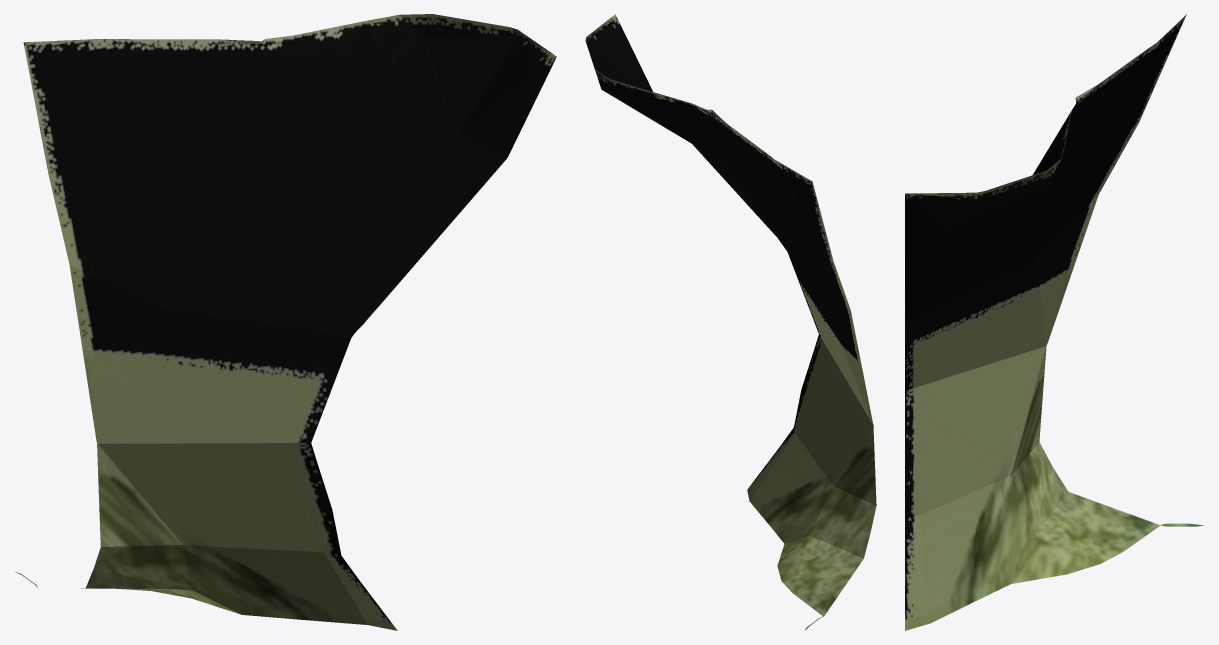
3 renders of one model, left to right at view 1: azimuth 30°, elevation 25°; view 2: azimuth 150°, elevation 25°; view 3: azimuth 270°, elevation 25°, orthographic. The views are drawn at different scales.
Bounding box in the file's own units: 4.44 × 5.9 × 3.14.
2 materials, 2 textured.
